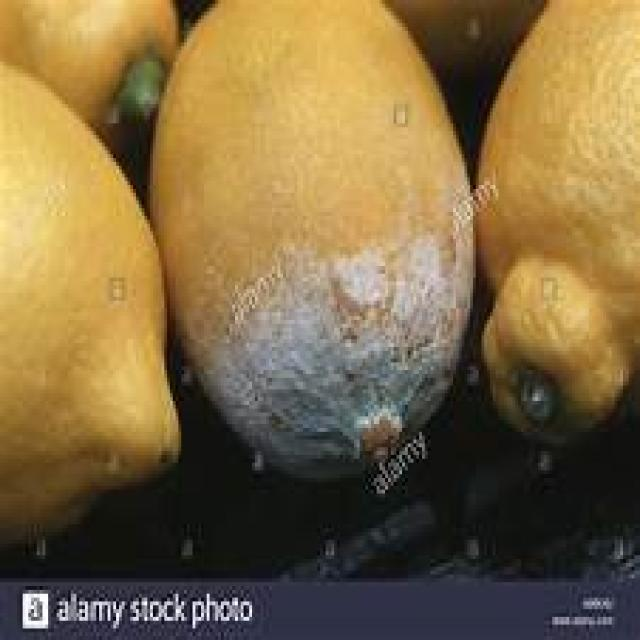Rotten: (136, 0, 479, 478)
